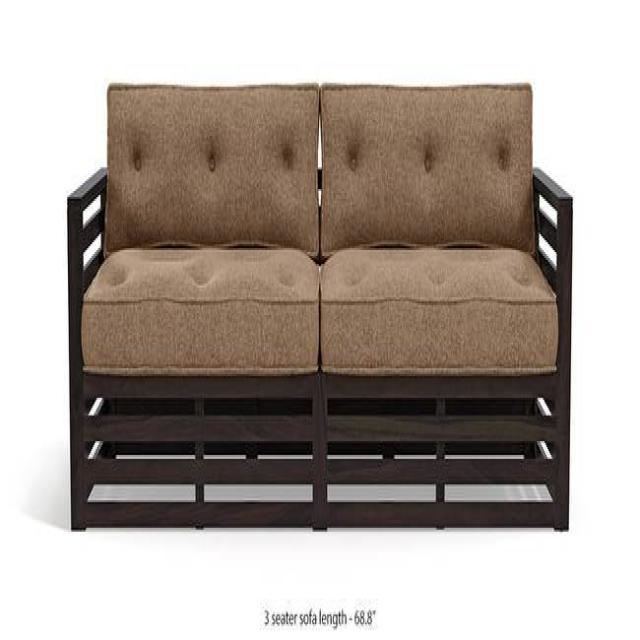sofa: (67, 79, 573, 532)
